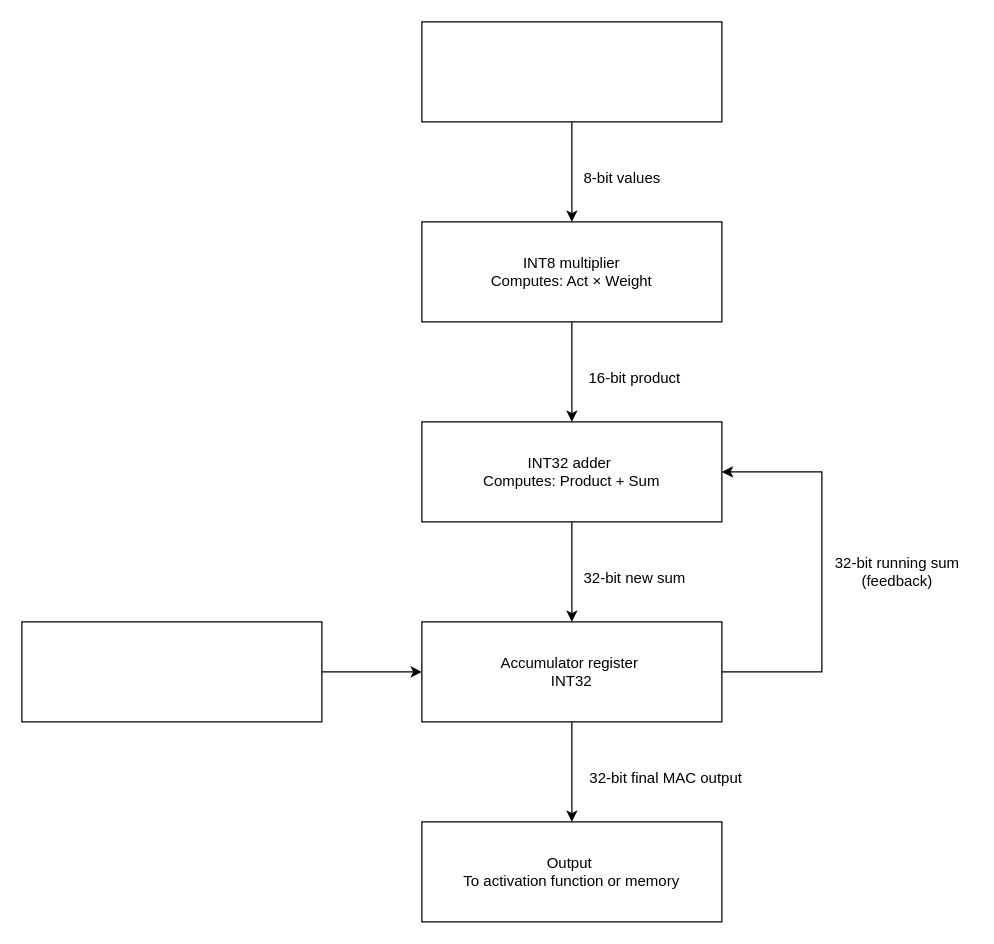
Image size: 994x944. Some labels were removed from this diagram. Each missing label, with the box of its shape:
Control signals CLK, RESET, EN: (21, 621, 322, 722)
Inputs Activation data (INT8) | Weight data (INT8): (421, 21, 722, 122)
